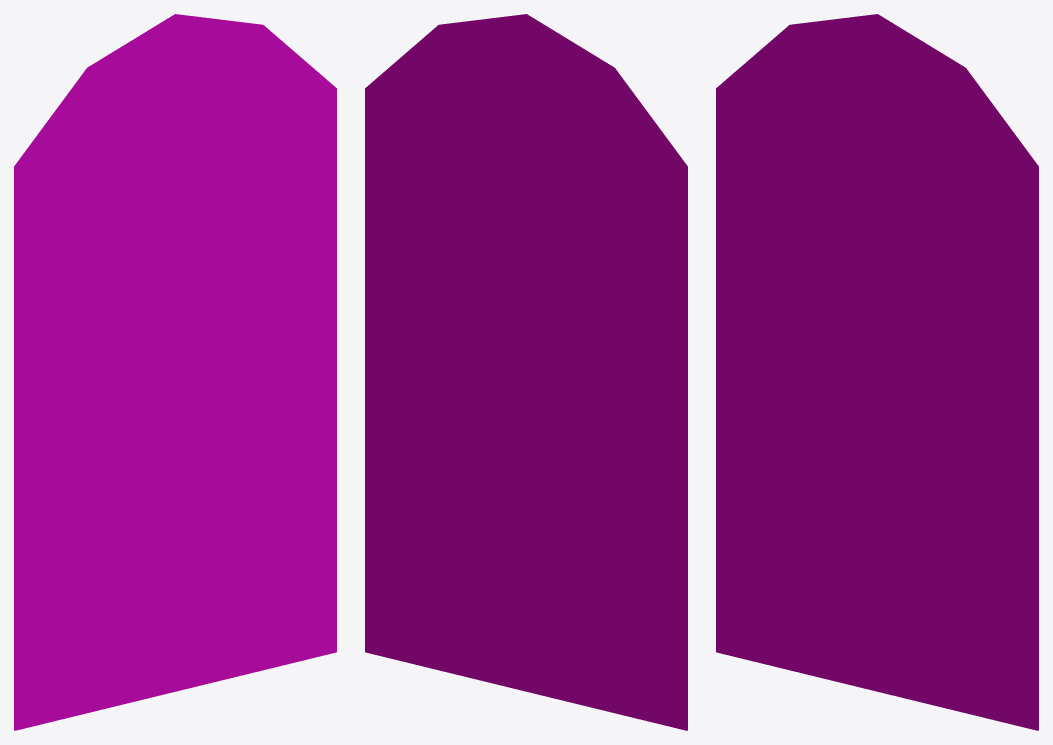
Rendered from Protal.fbx.
The picture shows the model from 3 angles, left to right: view 1: azimuth 30°, elevation 25°; view 2: azimuth 150°, elevation 25°; view 3: azimuth 330°, elevation 25°; orthographic projection.
Visible parts, largest first — view 1: Portal; view 2: Portal; view 3: Portal.
Boxes of the visible parts, bbox=[...] form: Portal: bbox=[14, 14, 336, 730]; Portal: bbox=[365, 14, 687, 730]; Portal: bbox=[716, 14, 1038, 730].
Bounding box in the file's own units: 28.39 × 57 × 0.1.
